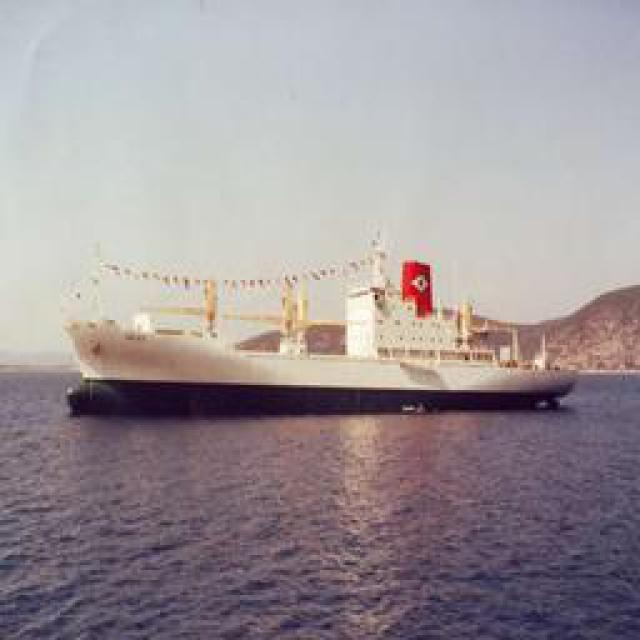Ship: (47, 246, 587, 409)
